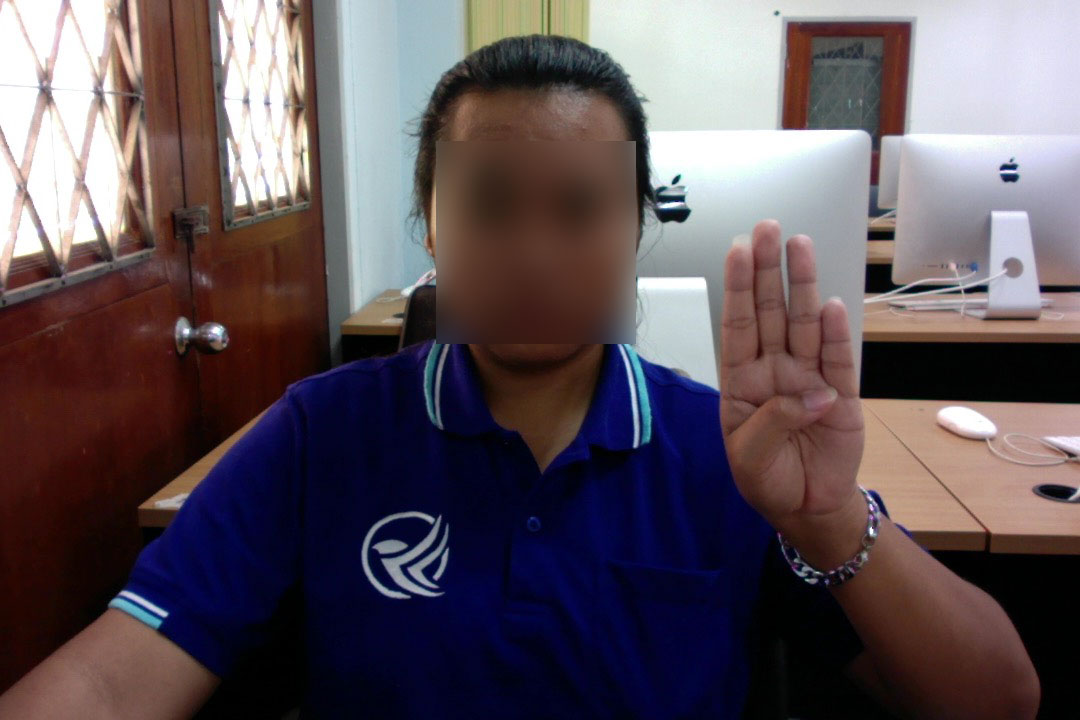bor: (712, 212, 870, 538)
